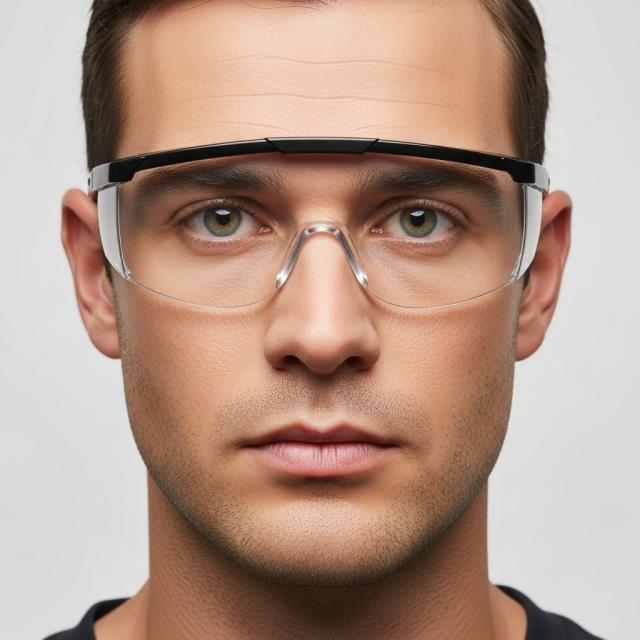oculos-epi: (89, 138, 548, 308)
